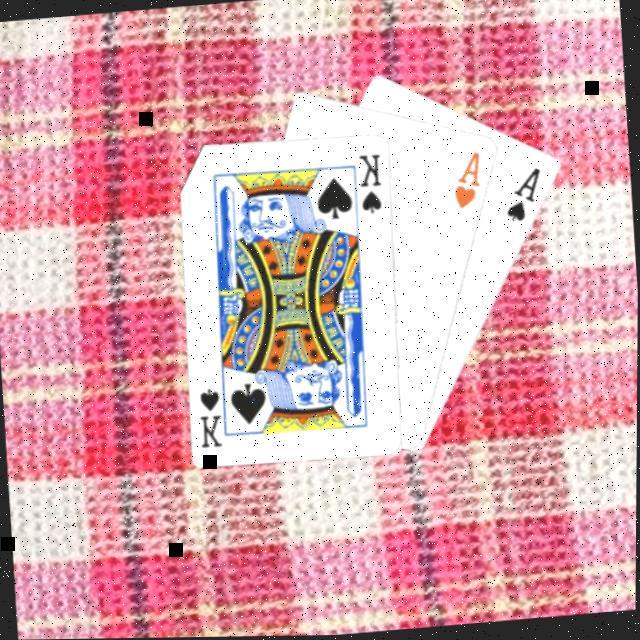AH: (449, 150, 487, 214)
AS: (502, 167, 548, 229)
KS: (195, 380, 234, 452), (355, 151, 388, 220)
